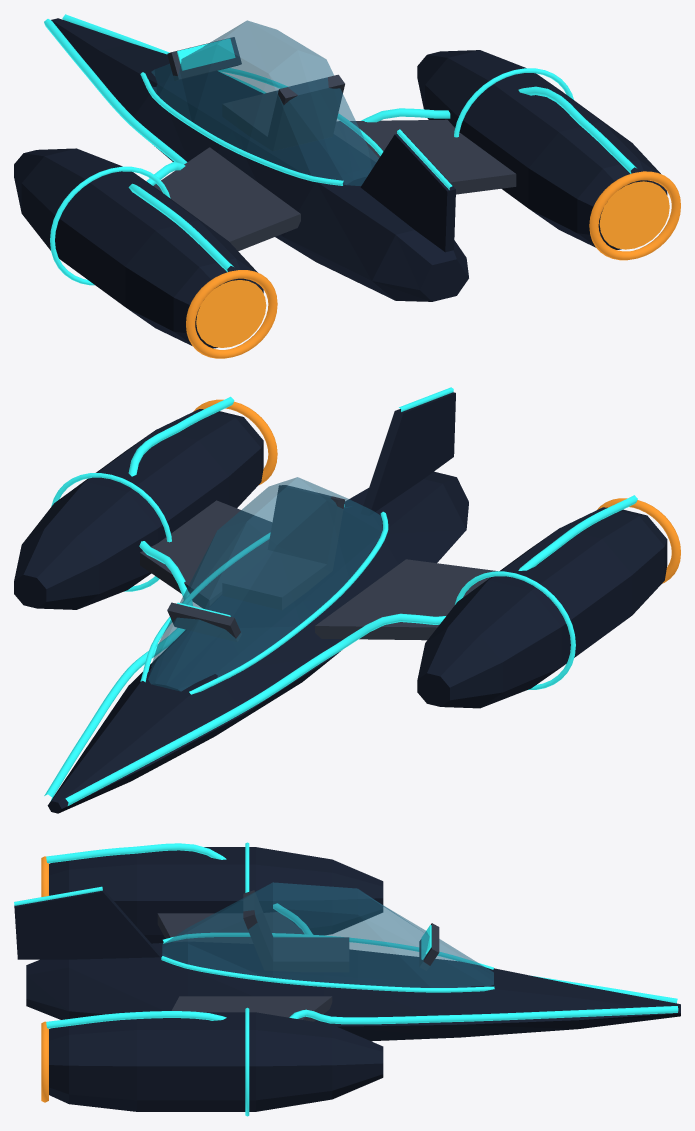
Rendered from racing-drone.glb.
3 views of the same model, one above another, from view 1: azimuth 30°, elevation 25°; view 2: azimuth 150°, elevation 25°; view 3: azimuth 270°, elevation 25° (orthographic). The views are drawn at different scales.
Parts seen in each view (by area): view 1: body, canopy, frame, neonTeal, thrusterCores, thrusterRings; view 2: body, canopy, frame, neonTeal, thrusterRings; view 3: body, canopy, neonTeal, frame, thrusterRings.
Part boxes in pixels (x1,y1,x2,y2): body: [14, 18, 667, 348]; canopy: [151, 20, 378, 185]; frame: [153, 37, 516, 251]; neonTeal: [44, 14, 636, 285]; thrusterCores: [196, 181, 669, 347]; thrusterRings: [186, 171, 680, 358]; body: [14, 392, 667, 813]; canopy: [148, 477, 382, 691]; frame: [140, 485, 497, 641]; neonTeal: [44, 387, 637, 805]; thrusterRings: [193, 399, 680, 583]; body: [14, 847, 680, 1111]; canopy: [162, 882, 493, 987]; neonTeal: [14, 842, 678, 1116]; frame: [157, 890, 439, 1021]; thrusterRings: [41, 856, 48, 1102].
Bounding box in the file's own units: 3 × 0.95 × 3.92.
